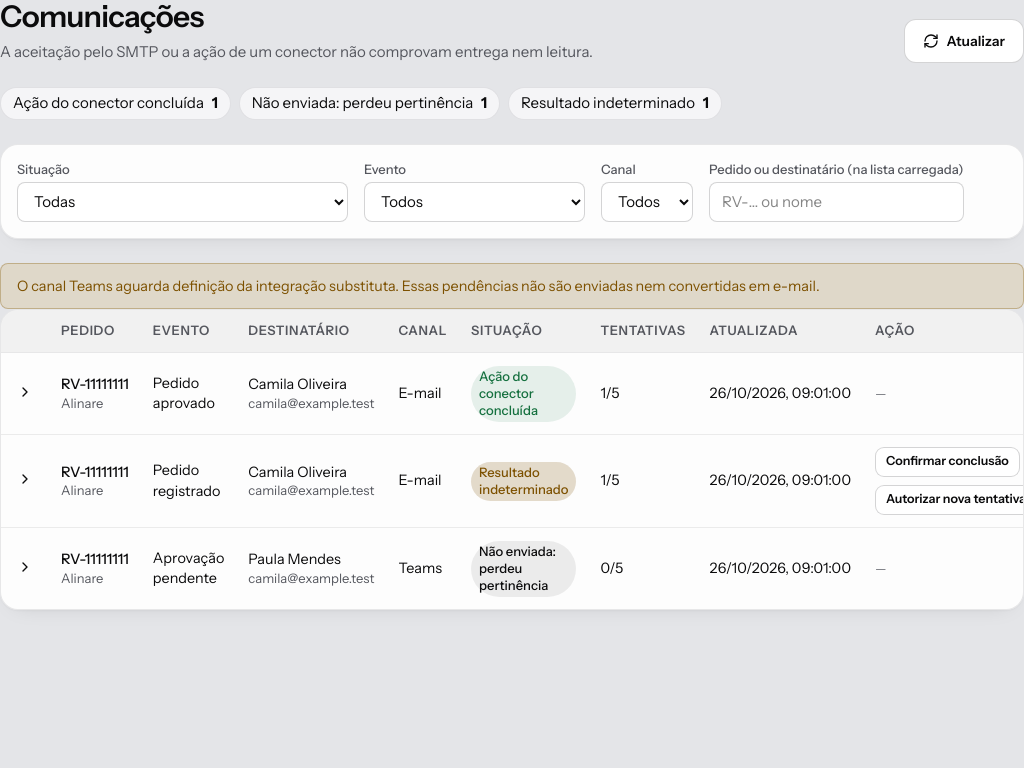
Test: ComunicacoesPage › exige justificativa e referência antes de reconciliar e envia os valores aparados
Check: the table is shown, box 1,310 -> 1023,609
Click the button "Confirmar conclusão": (947, 462) 875,447 -> 1020,477
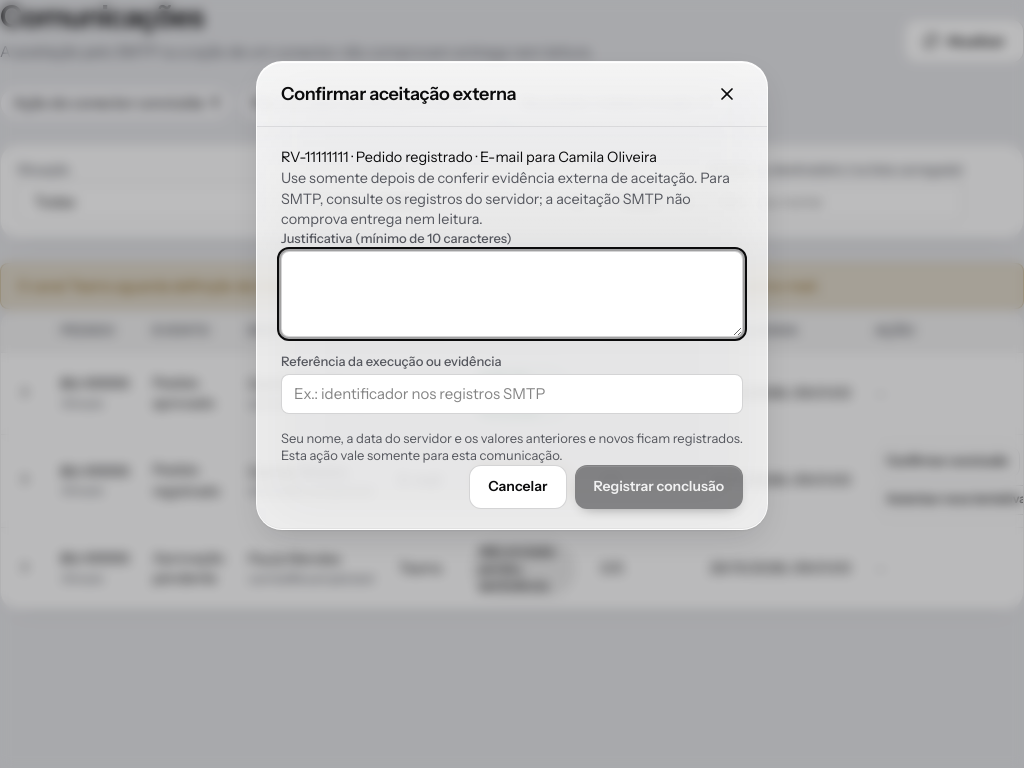
Check: the button "Registrar conclusão" is disabled, box 574,465 -> 743,509
In the text box labelled "Justificativa (mínimo de 10 caracteres)": (512, 294) 281,251 -> 743,337, type "curta"
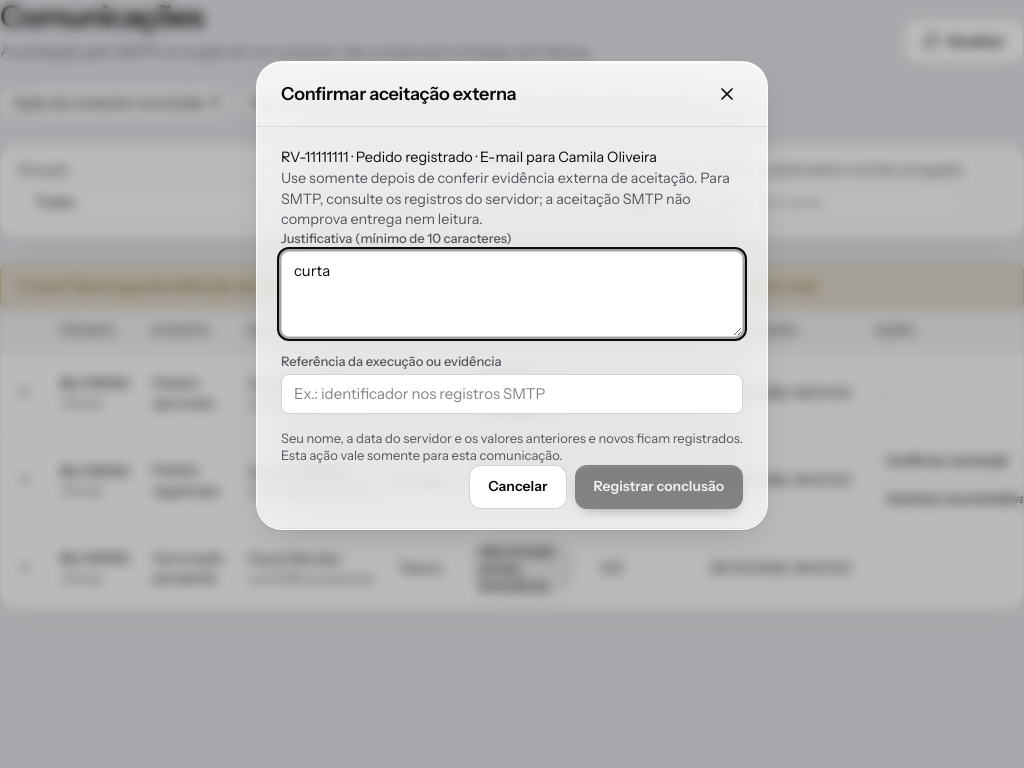
In the field labelled "Referência da execução ou evidência": (512, 394) 281,374 -> 743,414, type "run-1"
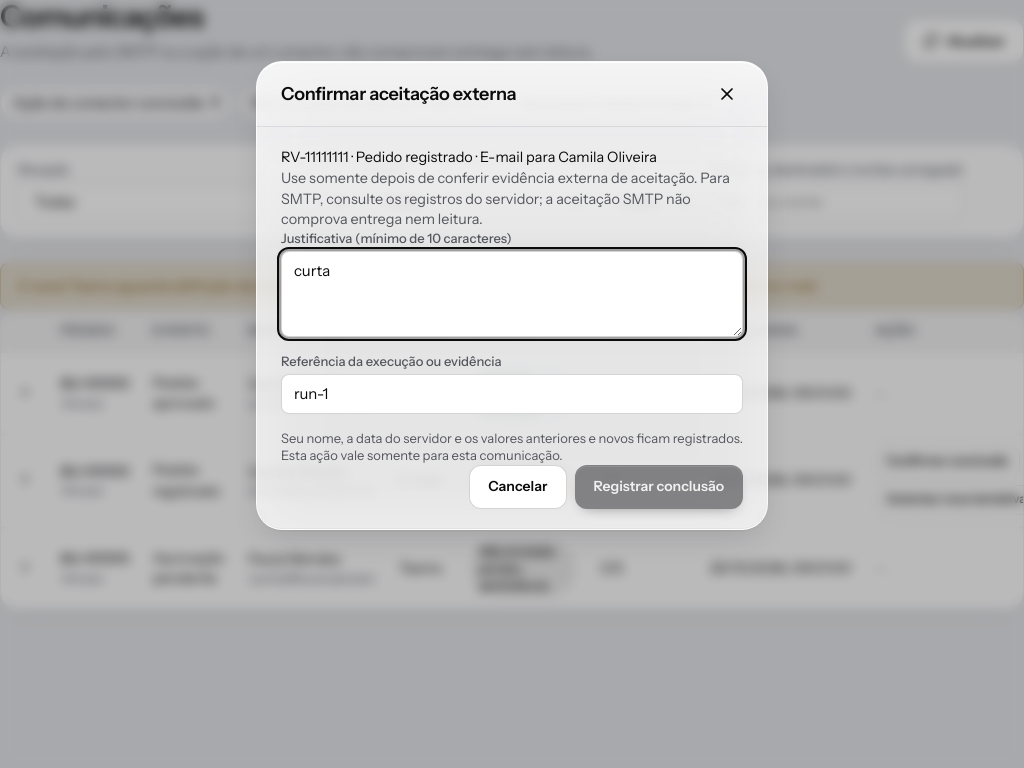
Check: the button "Registrar conclusão" is disabled, box 574,465 -> 743,509
Replace the text in the text box labelled "Justificativa (mínimo de 10 caracteres)" with "  Mensagem localizada no histórico do Outlook.  ": (512, 294) 281,251 -> 743,337
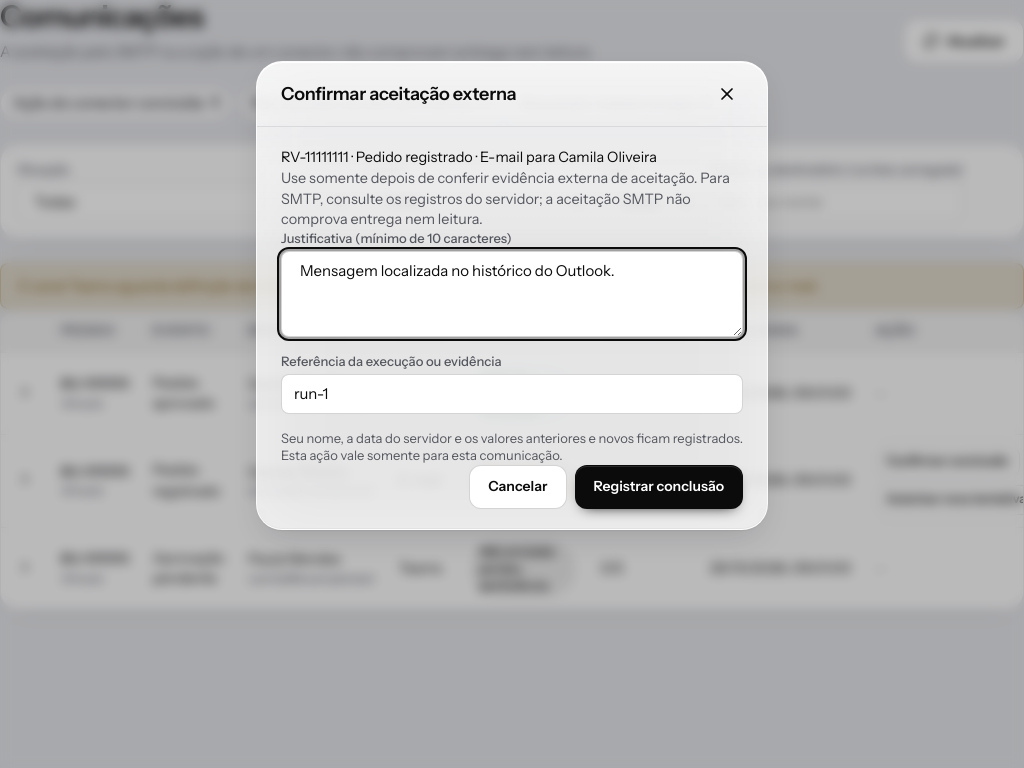
Check: the button "Registrar conclusão" is enabled
Click the button "Registrar conclusão": (659, 487) 574,465 -> 743,509
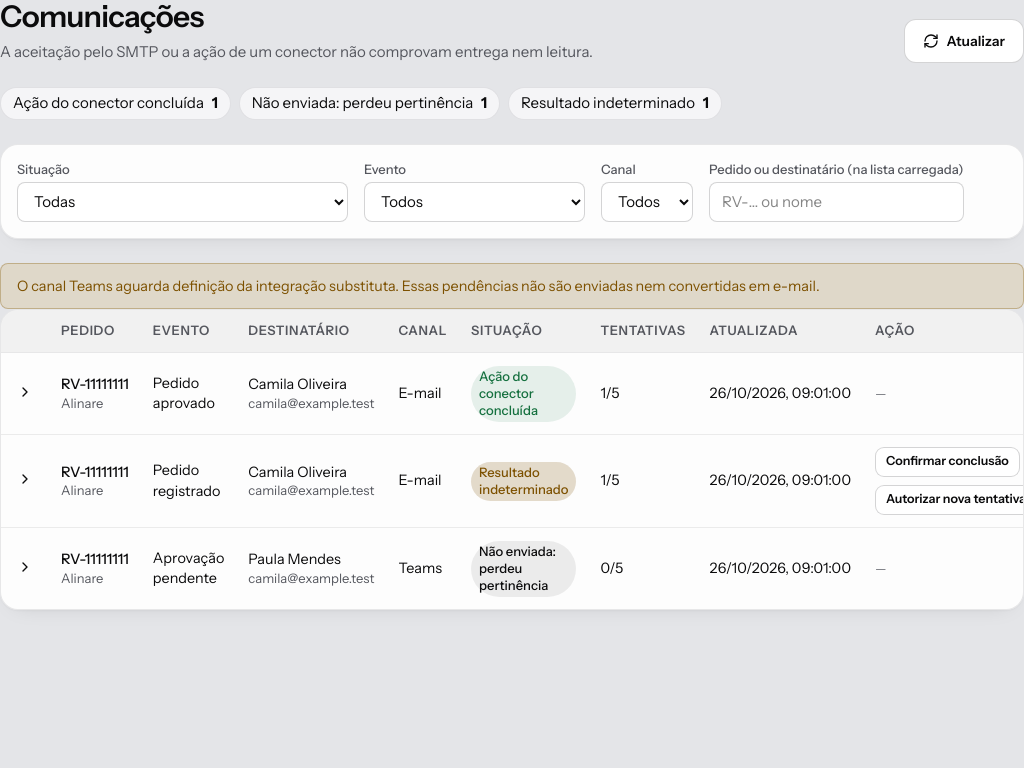
Check: the dialog is gone
